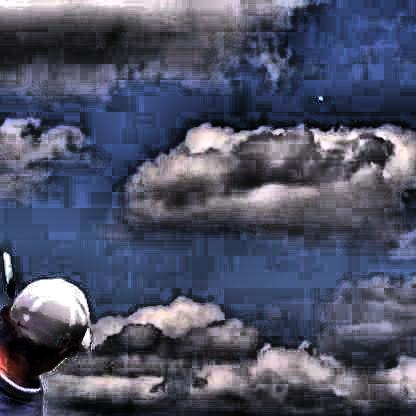golfball: (315, 93, 319, 100)
